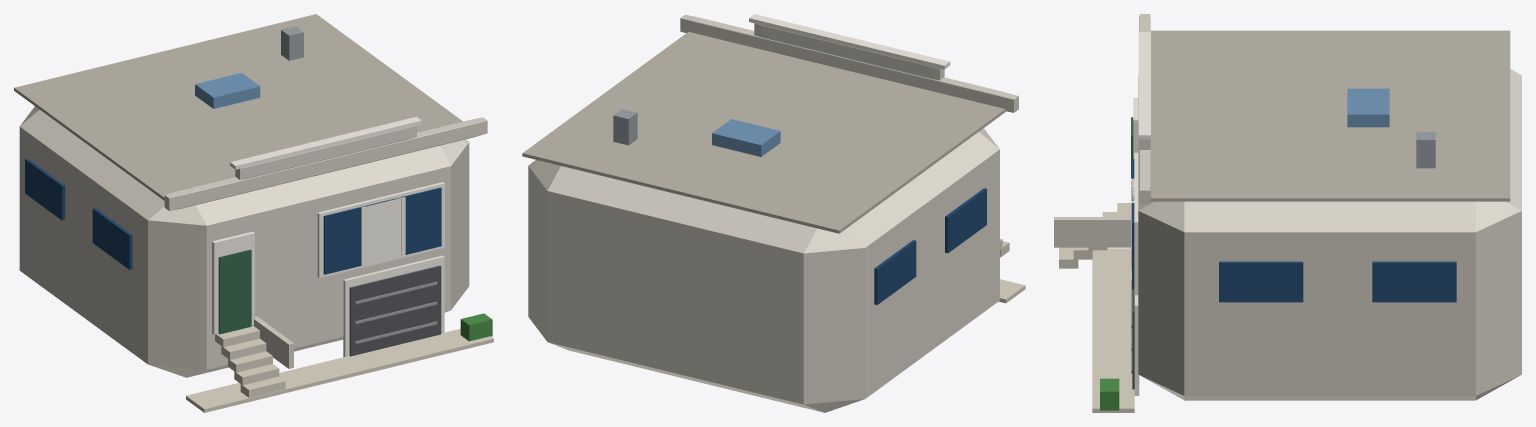
File: sunset_w11_stepped_pic_m.glb
The picture shows the model from 3 angles, left to right: view 1: azimuth 30°, elevation 25°; view 2: azimuth 150°, elevation 25°; view 3: azimuth 270°, elevation 25°; orthographic projection. The views are drawn at different scales.
Visible parts, largest first — view 1: walls, roofslab, gdoor, patio, pp1, pwin, door, pp2, pmull, pcap, gfr, pfr (+12 smaller); view 2: walls, roofslab, pp1, pp2, pcap, skylt, sb.002, sb, pipe; view 3: walls, roofslab, patio, sb.003, sb.001, srail, skylt, pcap, pp1, pipe, pfr, hedge (+1 smaller).
Part boxes in pixels (x1=…): walls: x1=19, y1=106, x2=469, y2=377; roofslab: x1=14, y1=14, x2=462, y2=200; gdoor: x1=349, y1=265, x2=441, y2=356; patio: x1=186, y1=328, x2=493, y2=412; pp1: x1=164, y1=117, x2=487, y2=210; pwin: x1=323, y1=187, x2=441, y2=274; door: x1=218, y1=249, x2=251, y2=334; pp2: x1=235, y1=125, x2=416, y2=179; pmull: x1=365, y1=197, x2=401, y2=264; pcap: x1=230, y1=116, x2=421, y2=169; gfr: x1=343, y1=255, x2=444, y2=357; pfr: x1=317, y1=182, x2=444, y2=278; walls: x1=528, y1=128, x2=999, y2=412; roofslab: x1=522, y1=31, x2=1005, y2=233; pp1: x1=680, y1=14, x2=1018, y2=112; pp2: x1=754, y1=23, x2=944, y2=80; pcap: x1=749, y1=14, x2=950, y2=69; skylt: x1=712, y1=119, x2=780, y2=156; sb.002: x1=874, y1=240, x2=916, y2=304; sb: x1=945, y1=188, x2=986, y2=253; pipe: x1=613, y1=109, x2=637, y2=145; walls: x1=1138, y1=69, x2=1521, y2=400; roofslab: x1=1150, y1=30, x2=1510, y2=201; patio: x1=1092, y1=248, x2=1134, y2=412; sb.003: x1=1372, y1=261, x2=1456, y2=302; sb.001: x1=1219, y1=261, x2=1303, y2=302; srail: x1=1054, y1=217, x2=1130, y2=247; skylt: x1=1347, y1=88, x2=1389, y2=127; pcap: x1=1138, y1=32, x2=1150, y2=139; pp1: x1=1139, y1=14, x2=1150, y2=204; pipe: x1=1416, y1=132, x2=1435, y2=168; pfr: x1=1134, y1=152, x2=1138, y2=295; hedge: x1=1100, y1=378, x2=1119, y2=410.
Bounding box in the file's own units: 11.2 × 7.17 × 12.2.
